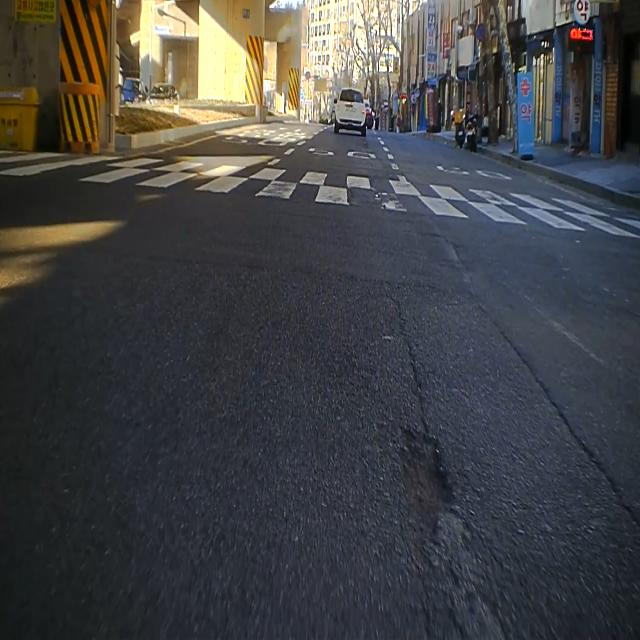Pothole: (392, 410, 461, 561)
